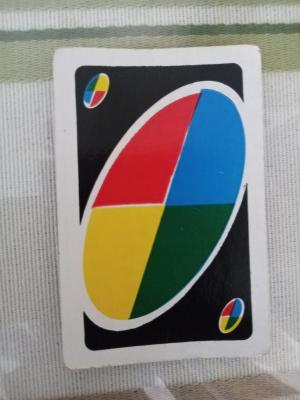wild: (69, 59, 257, 352), (77, 68, 117, 115)
